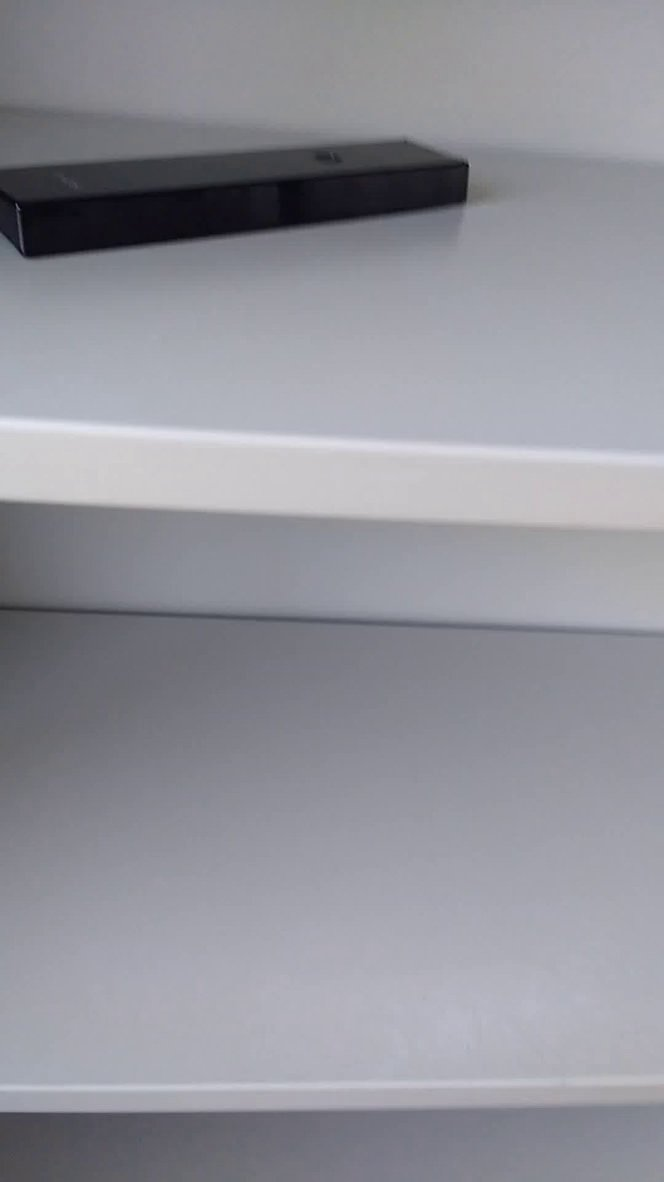remote: (1, 114, 480, 272)
